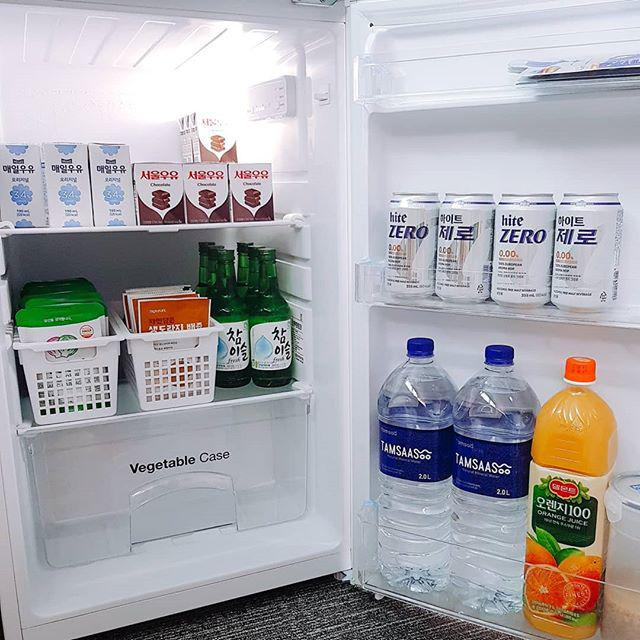soju: (187, 237, 303, 394)
